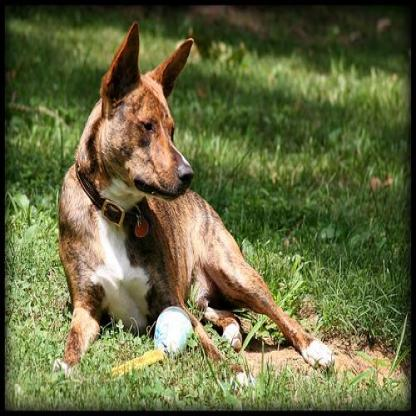basenji: (48, 16, 344, 391)
